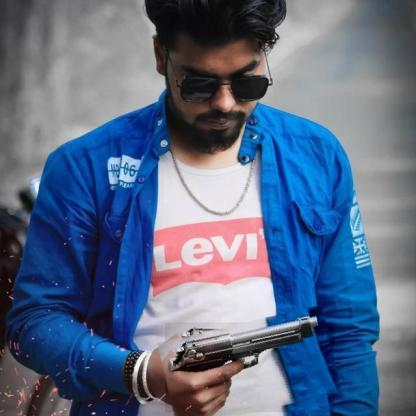handgun: (161, 313, 338, 416)
